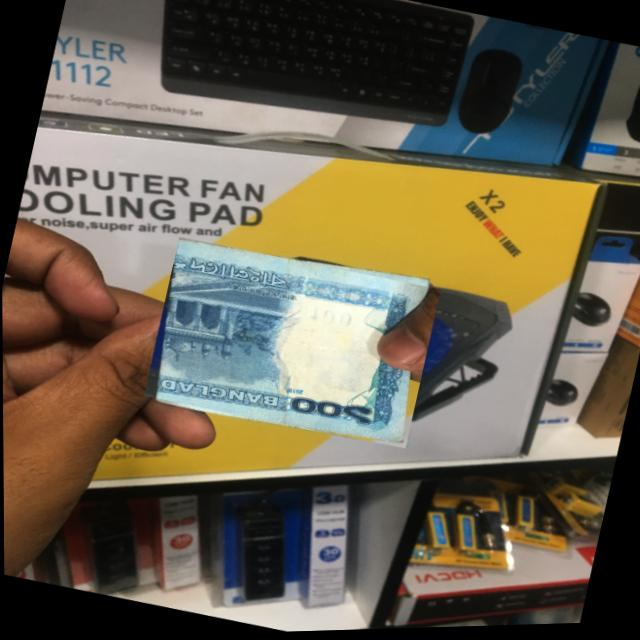Taka: (142, 232, 441, 457)
